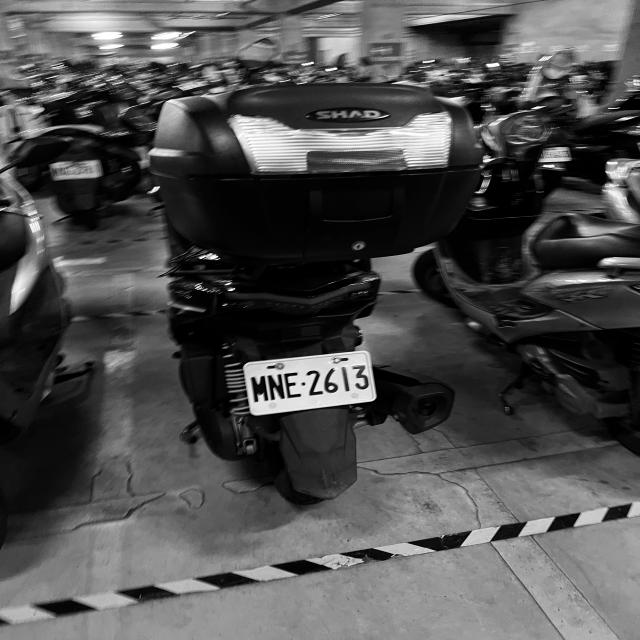-: (300, 381, 306, 386)
1: (339, 366, 353, 394)
2: (306, 368, 324, 396)
3: (350, 363, 369, 389)
6: (323, 368, 339, 393)
E: (284, 372, 302, 398)
M: (248, 374, 270, 404)
N: (267, 373, 288, 402)
plate: (246, 358, 376, 404), (48, 162, 103, 180)
